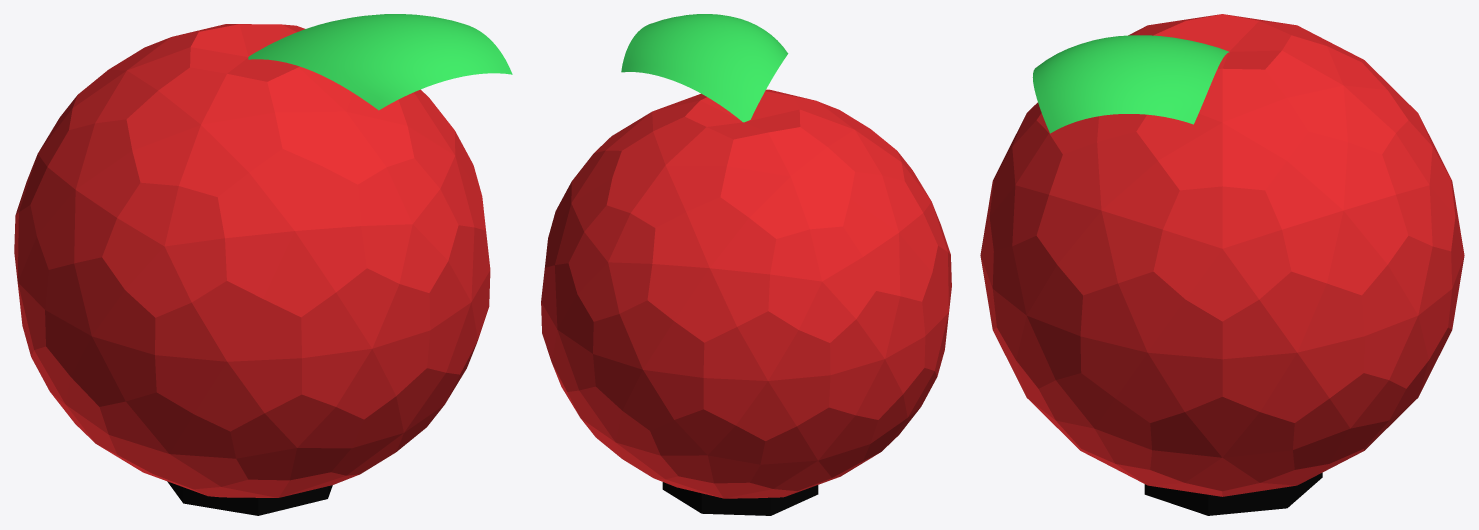
File: Fruit.fbx
The picture shows the model from 3 angles, left to right: view 1: azimuth 30°, elevation 25°; view 2: azimuth 150°, elevation 25°; view 3: azimuth 270°, elevation 25°; orthographic projection. The views are drawn at different scales.
Visible parts, largest first — view 1: Icosphere, SurfPatch, Cylinder; view 2: Icosphere, SurfPatch, Cylinder; view 3: Icosphere, SurfPatch, Cylinder.
Boxes of the visible parts, <box> form: Icosphere: <box>14,24,490,497</box>; SurfPatch: <box>248,14,512,110</box>; Cylinder: <box>167,481,332,515</box>; Icosphere: <box>541,89,951,498</box>; SurfPatch: <box>621,14,788,122</box>; Cylinder: <box>662,482,818,515</box>; Icosphere: <box>980,14,1464,496</box>; SurfPatch: <box>1032,35,1229,133</box>; Cylinder: <box>1144,472,1322,515</box>.
Bounding box in the file's own units: 74.6 × 79.97 × 74.74.
